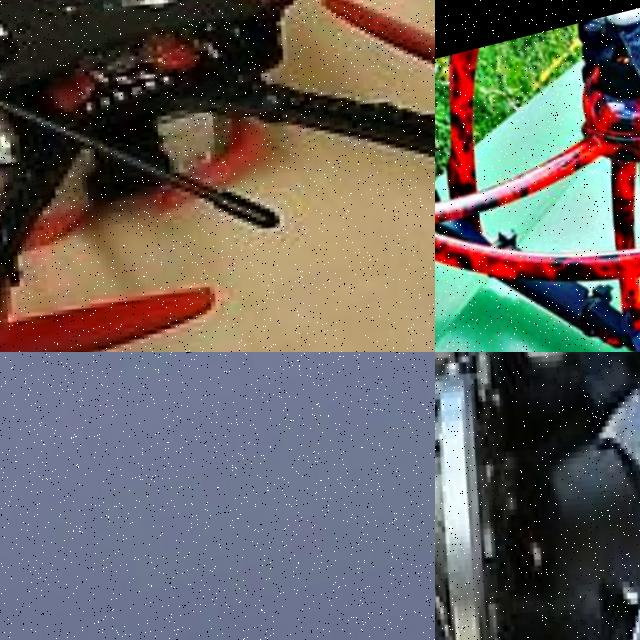drone: (0, 0, 435, 352), (435, 0, 640, 352), (435, 352, 640, 640)
